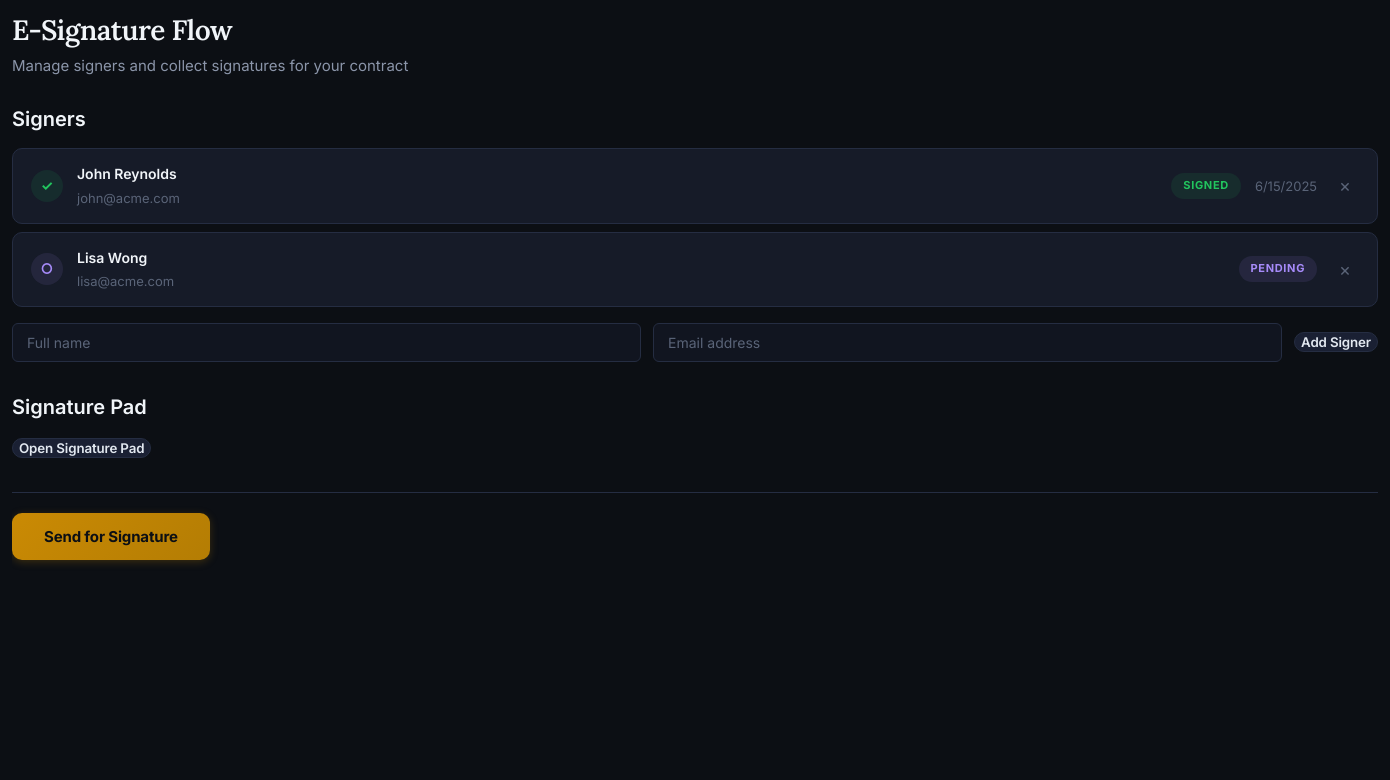
Test: SignatureFlow › adds a new signer
The width and height of the screenshot is (1390, 780).
In the field with placeholder "Full name": point(326, 342) [12, 323, 641, 362], type "Alice Cooper"
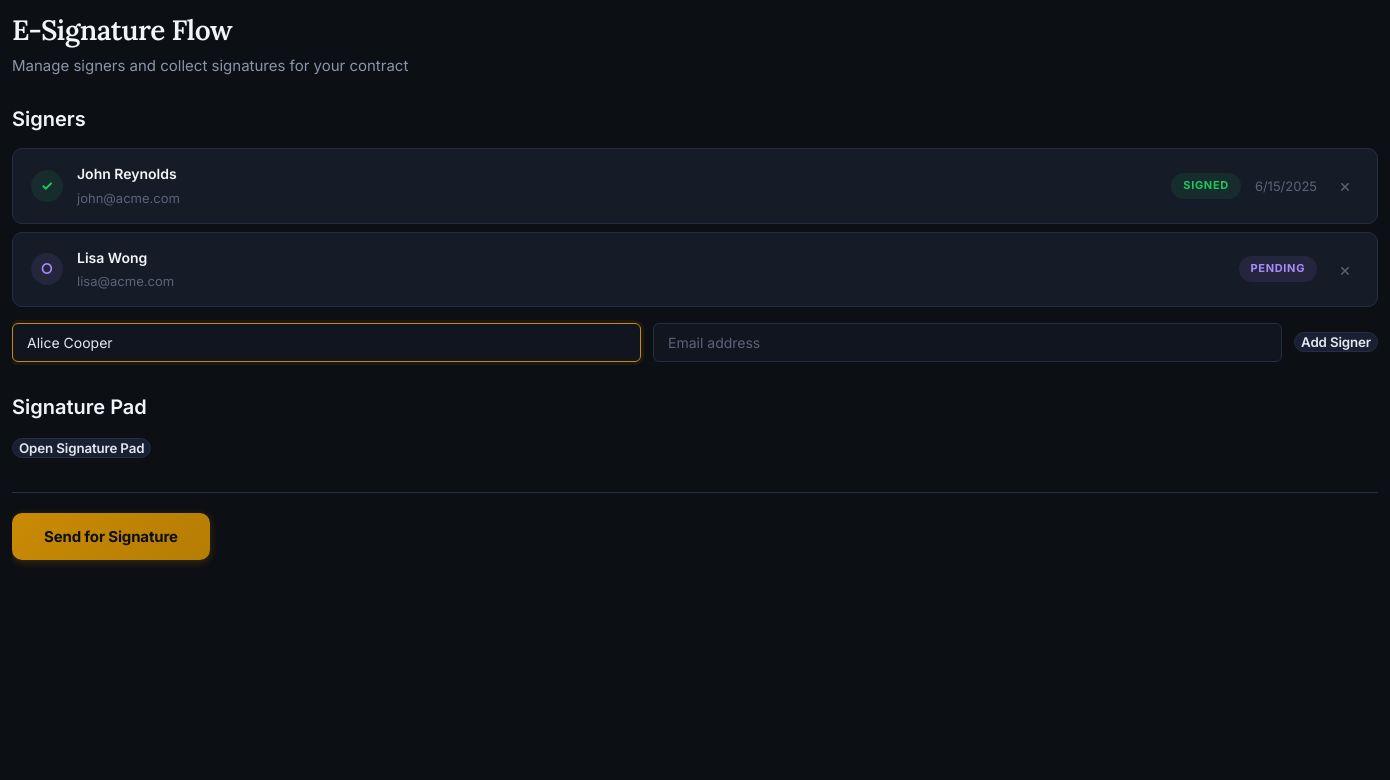
In the field with placeholder "Email address": point(968, 342) [653, 323, 1282, 362], type "alice@example.com"
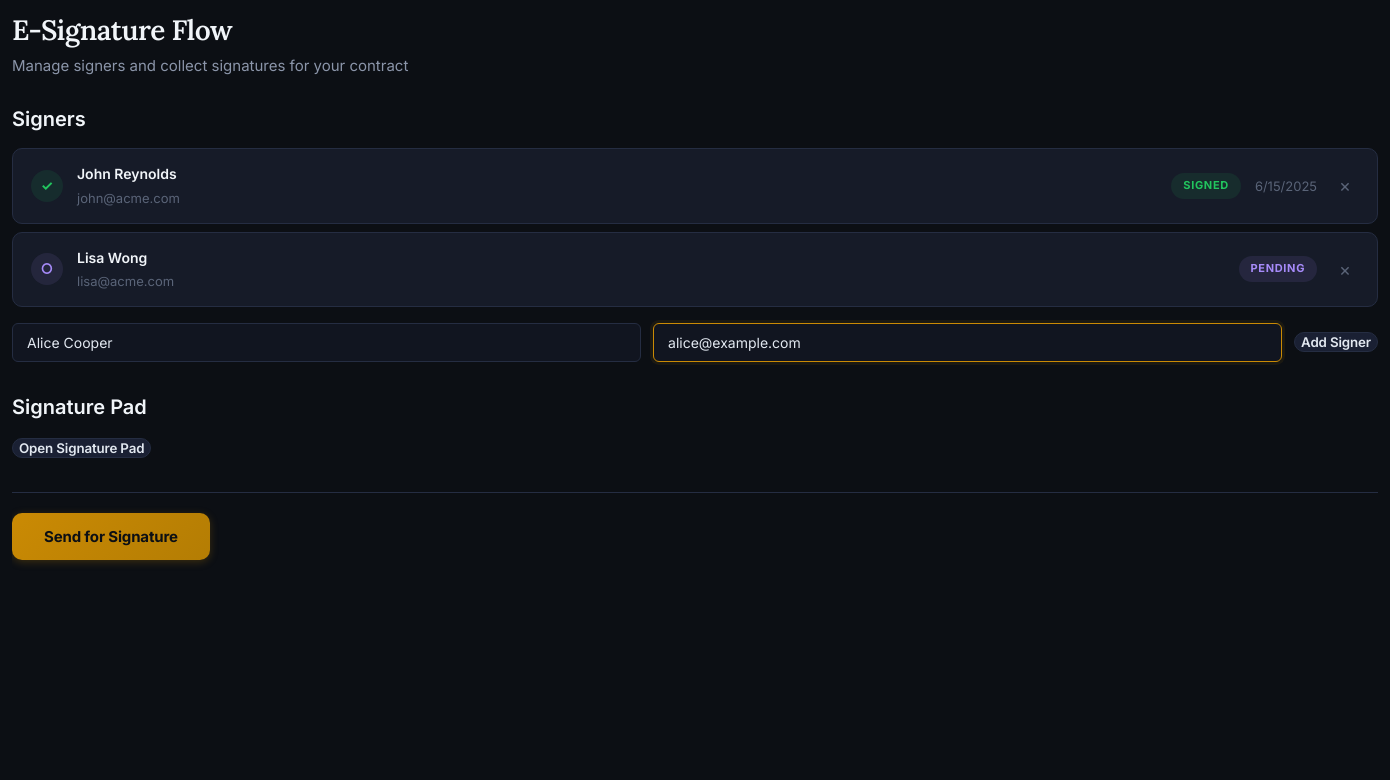
Click the button "Add Signer": point(1336, 342) [1294, 332, 1378, 352]
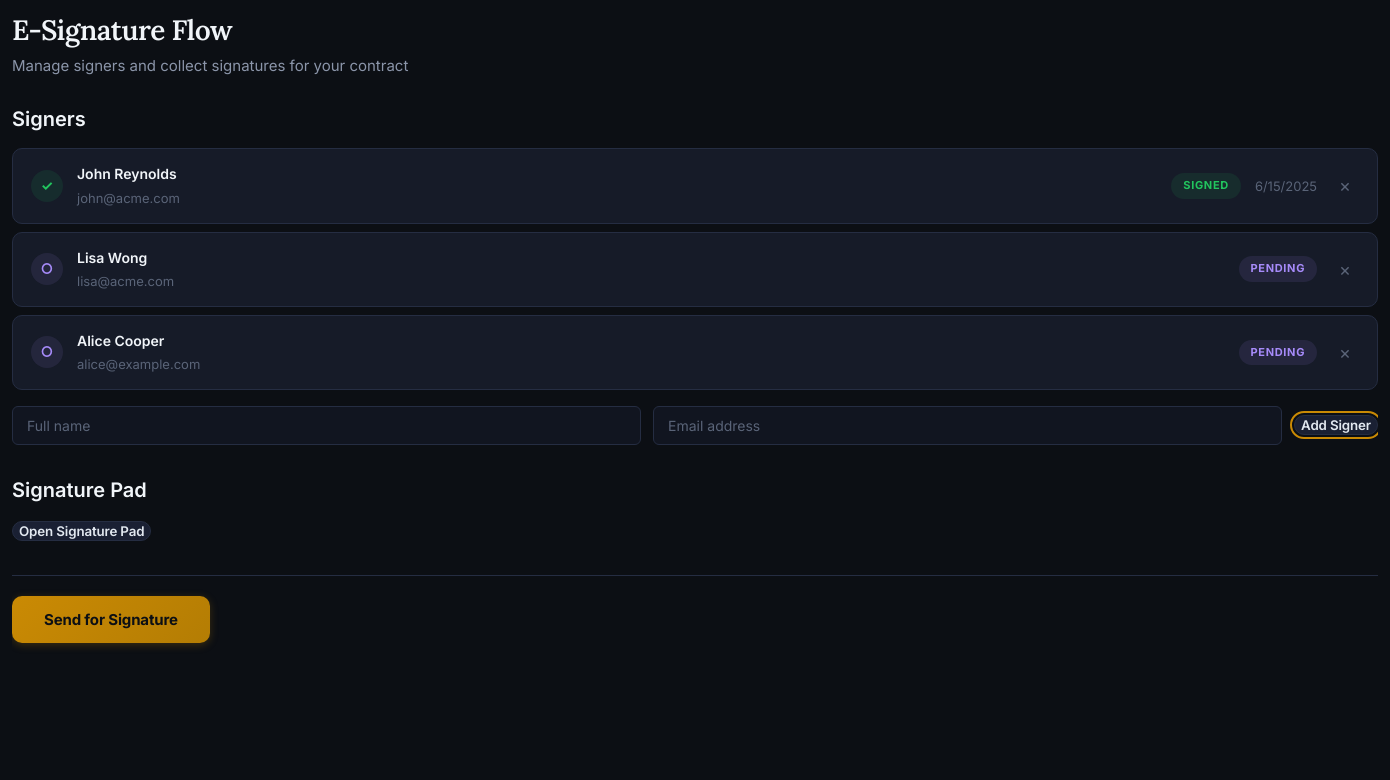
Check: the text "Alice Cooper" is shown, box [77, 332, 164, 349]
Check: the text "alice@example.com" is shown, box [77, 356, 200, 372]
